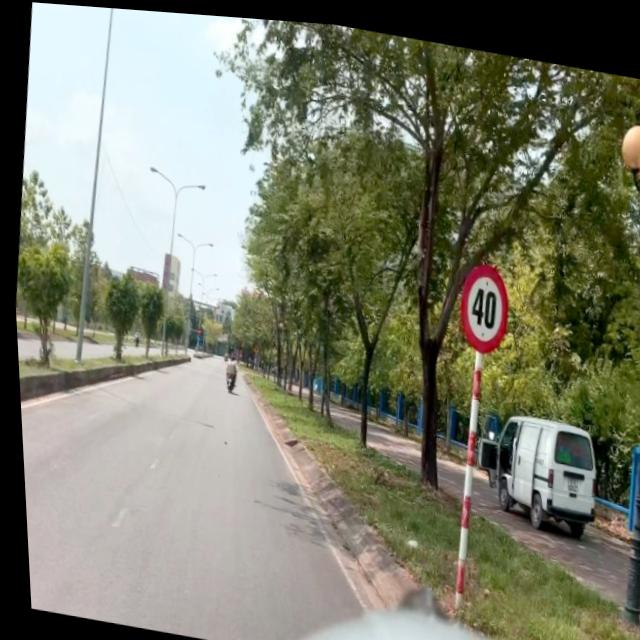Cam di nguoc chieu: (192, 325, 198, 332)
Toc do toi da cho phep: (450, 249, 513, 354)
Vong chuong ngai vat sang phai: (192, 332, 197, 338)
